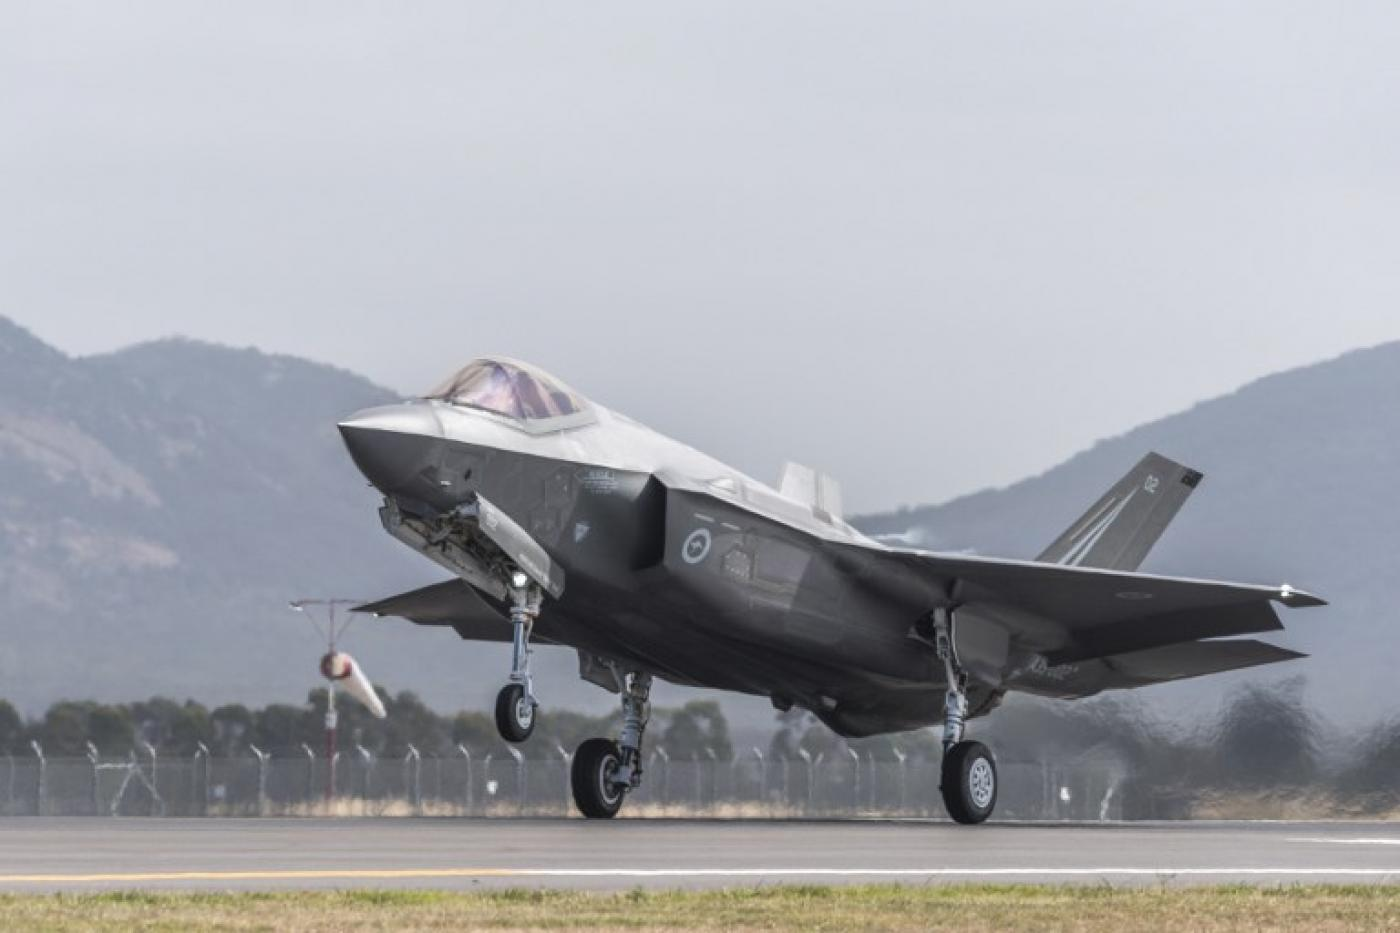F-35 Lightning: (263, 264, 1327, 833)
